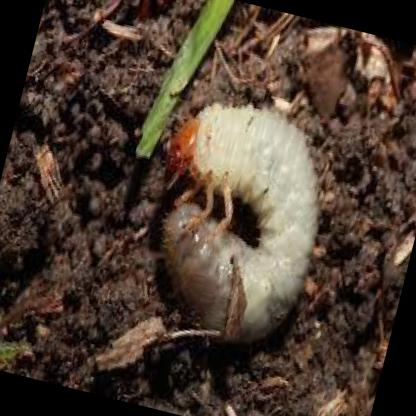root grubs: (162, 107, 319, 345)
